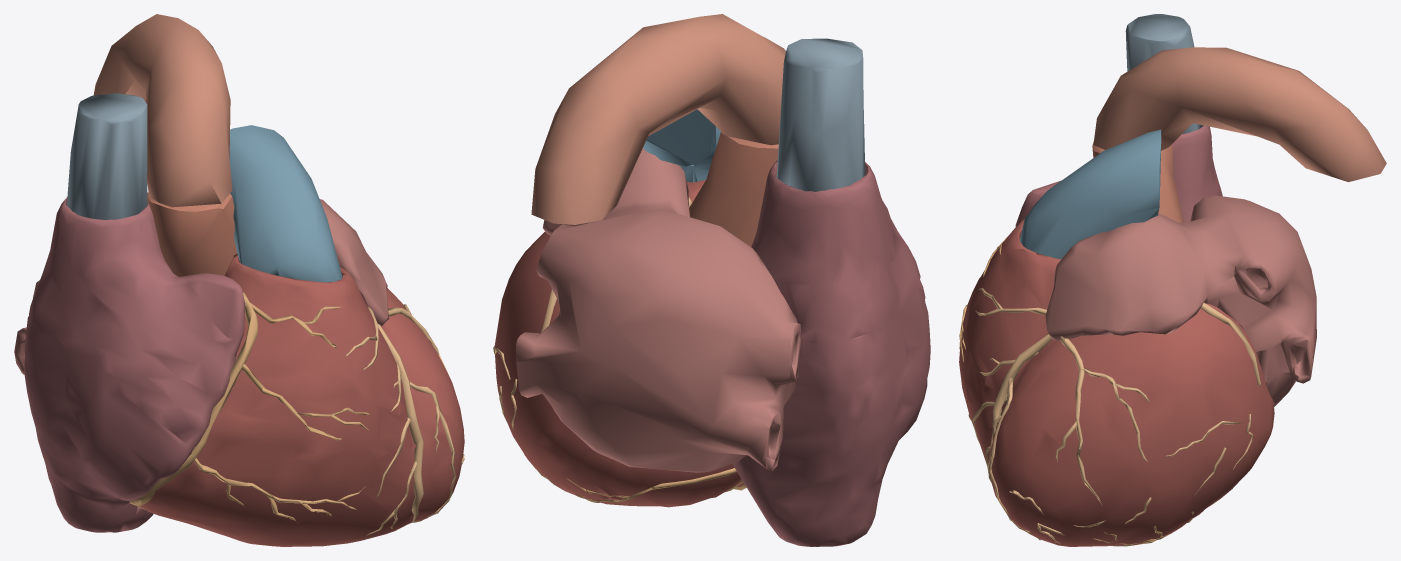
The model's file is heart-light.glb.
3 views of the same model, side by side, from view 1: azimuth 30°, elevation 25°; view 2: azimuth 150°, elevation 25°; view 3: azimuth 270°, elevation 25° (orthographic). The views are drawn at different scales.
Parts seen in each view (by area): view 1: ventricular-wall, right-atrium, aortic-arch, pulmonary-trunk, superior-vena-cava, ascending-aorta, right-coronary, left-coronary, left-atrium; view 2: left-atrium, right-atrium, aortic-arch, ventricular-wall, superior-vena-cava, ascending-aorta, pulmonary-trunk, right-coronary, left-coronary; view 3: ventricular-wall, left-atrium, aortic-arch, pulmonary-trunk, left-coronary, right-atrium, superior-vena-cava, ascending-aorta, right-coronary.
Boxes of the visible parts, left/top/right/bottom form: ventricular-wall: left=136, top=253, right=464, bottom=546; right-atrium: left=24, top=197, right=244, bottom=532; aortic-arch: left=93, top=14, right=232, bottom=207; pulmonary-trunk: left=229, top=125, right=342, bottom=282; superior-vena-cava: left=66, top=93, right=147, bottom=219; ascending-aorta: left=147, top=192, right=237, bottom=276; right-coronary: left=129, top=292, right=423, bottom=523; left-coronary: left=346, top=304, right=464, bottom=535; left-atrium: left=14, top=192, right=389, bottom=374; left-atrium: left=516, top=148, right=801, bottom=472; right-atrium: left=732, top=160, right=930, bottom=546; aortic-arch: left=531, top=14, right=785, bottom=224; ventricular-wall: left=494, top=180, right=744, bottom=507; superior-vena-cava: left=776, top=38, right=865, bottom=191; ascending-aorta: left=689, top=131, right=778, bottom=246; pulmonary-trunk: left=643, top=109, right=720, bottom=182; right-coronary: left=525, top=455, right=746, bottom=502; left-coronary: left=493, top=198, right=692, bottom=429; ventricular-wall: left=959, top=218, right=1274, bottom=546; left-atrium: left=1045, top=195, right=1316, bottom=406; aortic-arch: left=1093, top=47, right=1386, bottom=182; pulmonary-trunk: left=1020, top=129, right=1161, bottom=259; left-coronary: left=972, top=288, right=1260, bottom=543; right-atrium: left=1015, top=125, right=1222, bottom=226; superior-vena-cava: left=1125, top=14, right=1203, bottom=134; ascending-aorta: left=1092, top=141, right=1183, bottom=222; right-coronary: left=959, top=236, right=1194, bottom=546.
Bounding box in the file's own units: 2.31 × 2.85 × 2.53.
